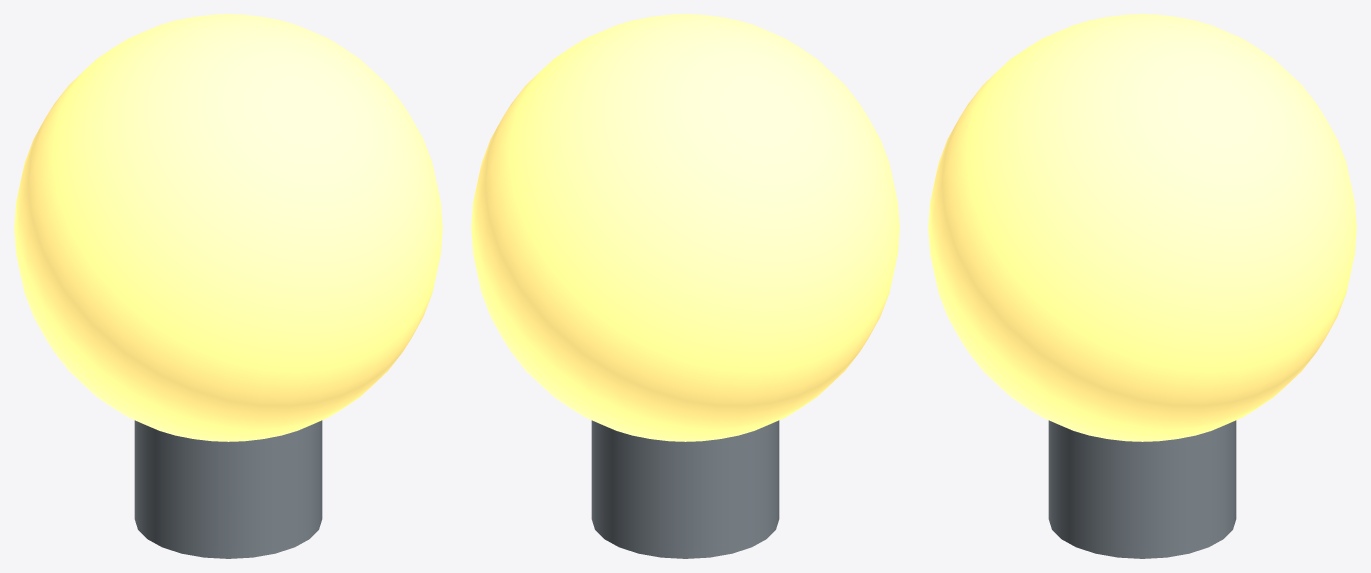
Rendered from ilaw.glb.
3 renders of one model, left to right at view 1: azimuth 30°, elevation 25°; view 2: azimuth 150°, elevation 25°; view 3: azimuth 270°, elevation 25°, orthographic.
Bounding box in the file's own units: 1.6 × 2 × 1.6.
